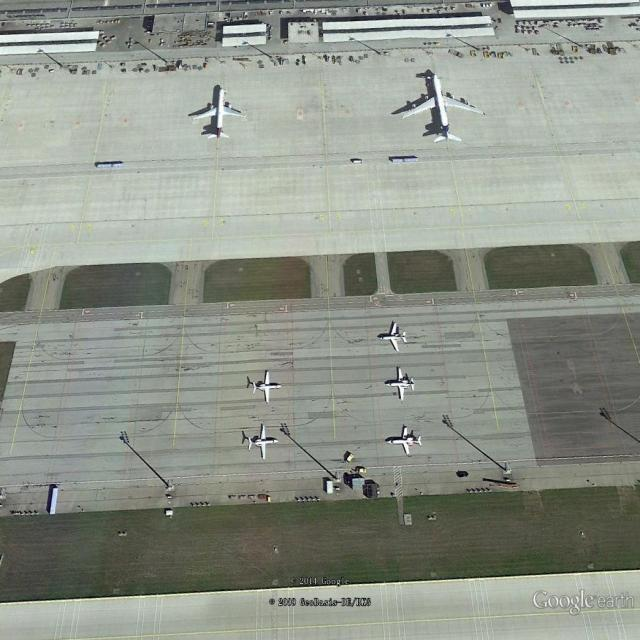aircraft: (400, 70, 488, 146), (188, 83, 247, 144), (247, 368, 284, 410), (245, 421, 280, 463), (385, 425, 426, 458), (385, 364, 418, 404), (380, 321, 410, 355)
